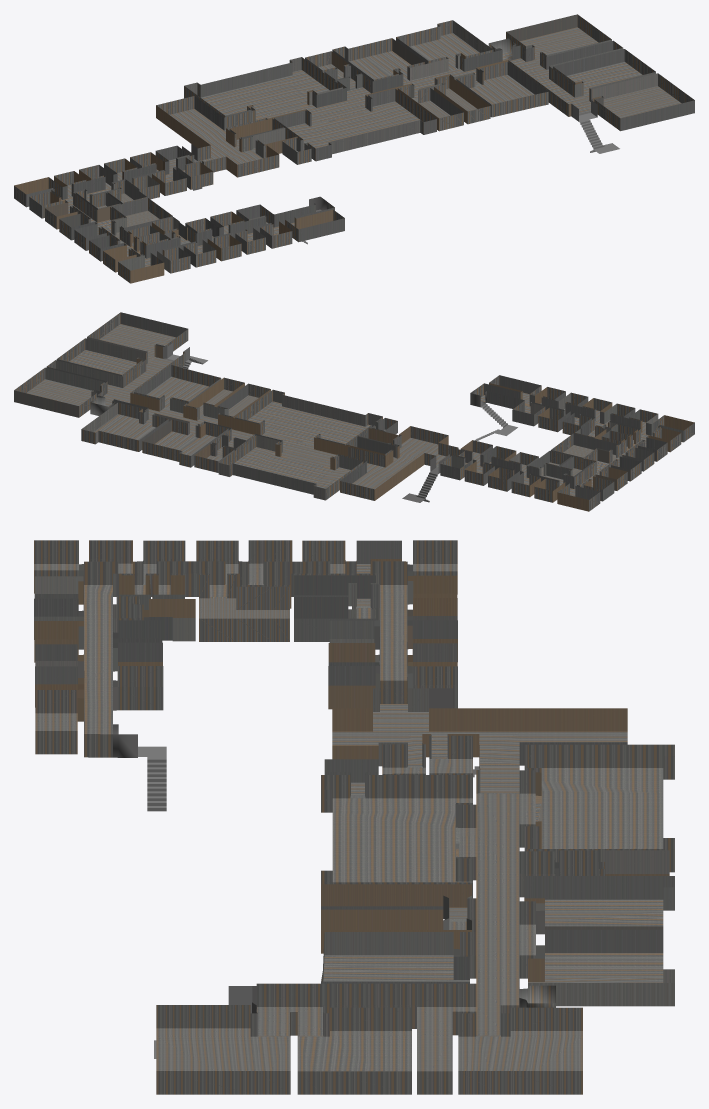
Rendered from ERTF_Environment_NavMesh_SecondFloorWStair.fbx.
3 renders of one model, top to bottom at view 1: azimuth 30°, elevation 25°; view 2: azimuth 150°, elevation 25°; view 3: azimuth 270°, elevation 25°, orthographic. The views are drawn at different scales.
Visible parts, largest first — view 1: envSecondFloor.038; view 2: envSecondFloor.038; view 3: envSecondFloor.038.
Boxes of the visible parts, x1=… form: envSecondFloor.038: x1=14, y1=14, x2=694, y2=283; envSecondFloor.038: x1=14, y1=312, x2=694, y2=511; envSecondFloor.038: x1=34, y1=540, x2=674, y2=1094.
Size of the model in its own units: 7524 by 568 by 3840.
